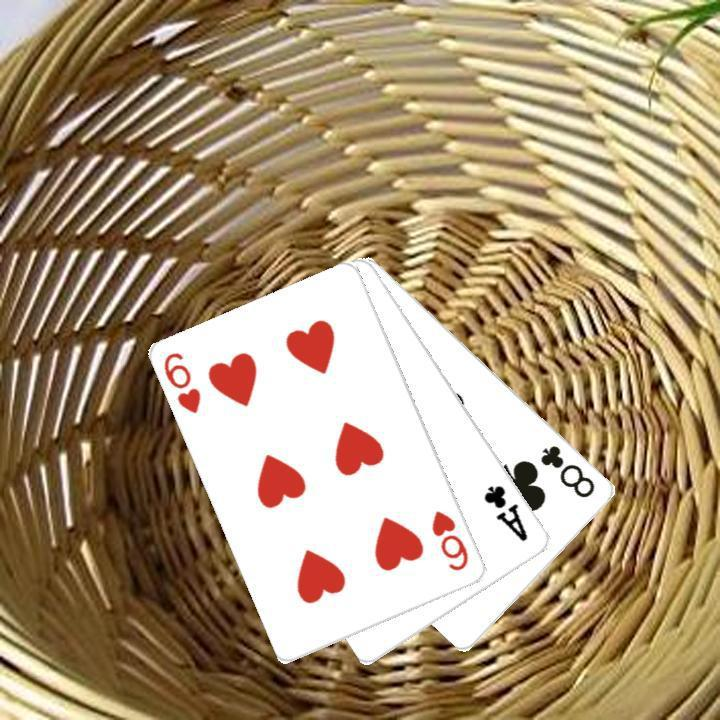6: (159, 348, 204, 416), (427, 506, 471, 574)
8: (536, 440, 598, 500)
A: (479, 480, 531, 544)
